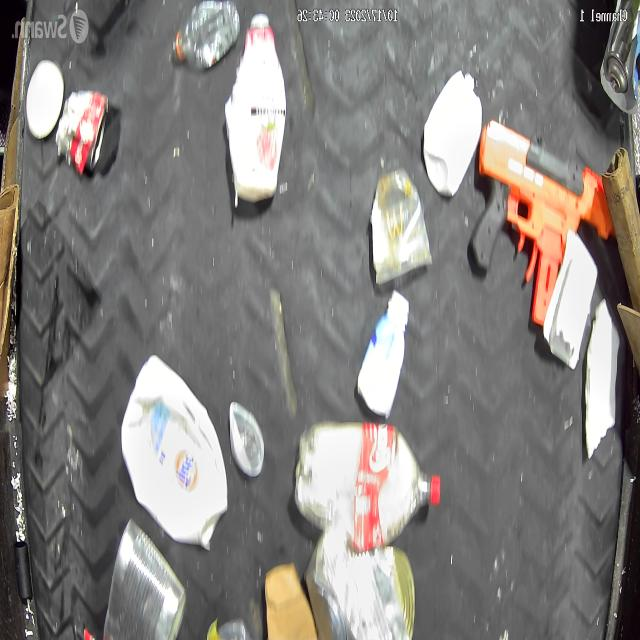can: (55, 89, 108, 174)
milk_jug: (120, 351, 230, 550), (423, 70, 481, 197)
non_white_jug: (224, 13, 287, 201)
plastic_bottle: (294, 425, 440, 551), (171, 0, 239, 70)
